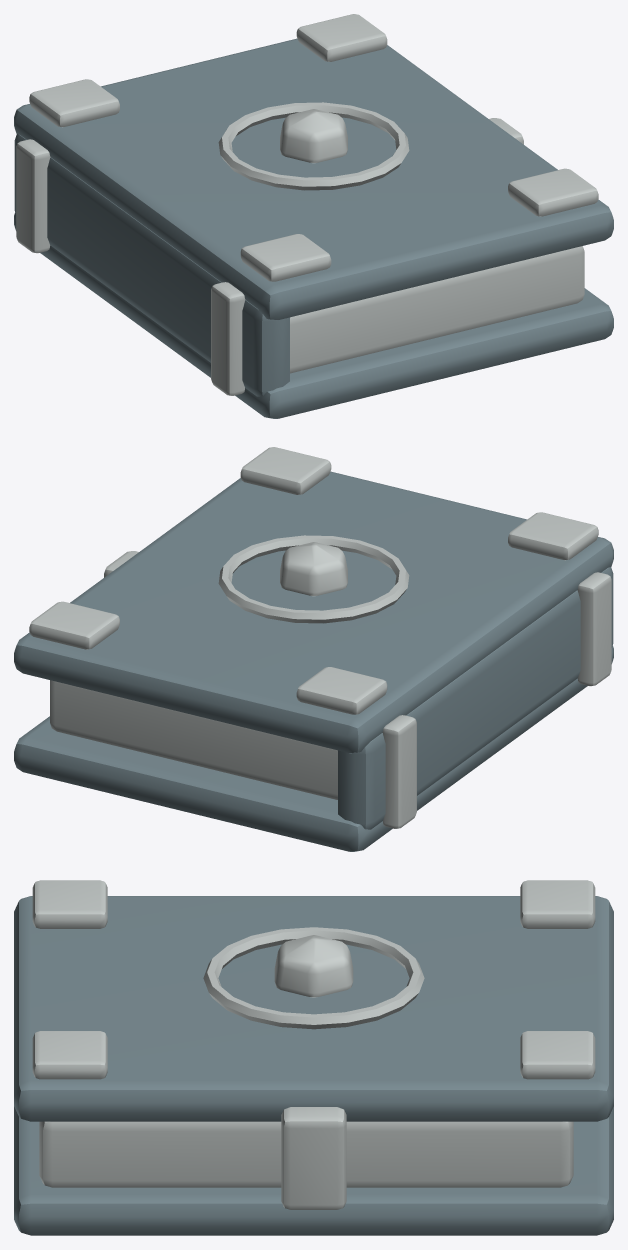
File: spellbook.glb
The picture shows the model from 3 angles, top to bottom: view 1: azimuth 30°, elevation 25°; view 2: azimuth 150°, elevation 25°; view 3: azimuth 270°, elevation 25°; orthographic projection. The views are drawn at different scales.
Visible parts, largest first — view 1: upper_cover, spine, lower_cover, pages, embossed_sigil, spine_binding, spine_binding.001, cover_gem, cover_corner.001, cover_corner.002, cover_corner, cover_corner.003; view 2: upper_cover, lower_cover, spine, pages, embossed_sigil, spine_binding.001, spine_binding, cover_gem, cover_corner, cover_corner.003, cover_corner.001, cover_corner.002; view 3: upper_cover, lower_cover, pages, embossed_sigil, clasp, cover_gem, cover_corner.002, cover_corner.003, cover_corner, cover_corner.001.
Part boxes in pixels (x1,y1,x2,y2): upper_cover: (14, 38, 613, 320); spine: (14, 134, 289, 396); lower_cover: (14, 212, 613, 418); pages: (290, 246, 584, 373); embossed_sigil: (218, 102, 409, 190); spine_binding: (16, 139, 50, 253); spine_binding.001: (211, 282, 245, 395); cover_gem: (280, 109, 347, 163); cover_corner.001: (240, 234, 331, 281); cover_corner.002: (296, 14, 387, 61); cover_corner: (29, 79, 119, 127); cover_corner.003: (508, 168, 598, 216); upper_cover: (14, 471, 613, 753); lower_cover: (14, 645, 613, 851); spine: (338, 567, 613, 829); pages: (50, 680, 337, 799); embossed_sigil: (218, 535, 409, 623); spine_binding.001: (577, 572, 611, 686); spine_binding: (382, 715, 416, 828); cover_gem: (280, 542, 347, 596); cover_corner: (296, 667, 387, 714); cover_corner.003: (240, 447, 331, 494); cover_corner.001: (508, 512, 598, 560); cover_corner.002: (29, 601, 119, 649); upper_cover: (14, 896, 613, 1121); lower_cover: (14, 1106, 613, 1235); pages: (39, 1121, 573, 1187); embossed_sigil: (203, 927, 424, 1029); clasp: (281, 1107, 346, 1209); cover_gem: (274, 935, 353, 997); cover_corner.002: (520, 1031, 595, 1079); cover_corner.003: (32, 1031, 107, 1079); cover_corner: (520, 880, 595, 928); cover_corner.001: (32, 880, 107, 928).
Size of the model in its own units: 0.2785 by 0.12 by 0.32.
